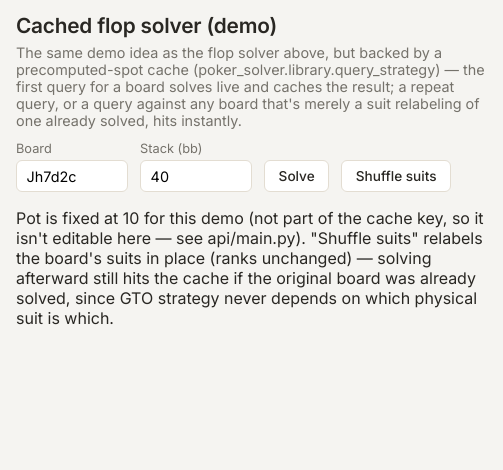
Test: CachedFlopSolver › shows a "Cache hit" indicator when hit is true
This screenshot has width=503, height=470.
Click the button "Solve" at coordinates (297, 176), box [264, 160, 329, 192]
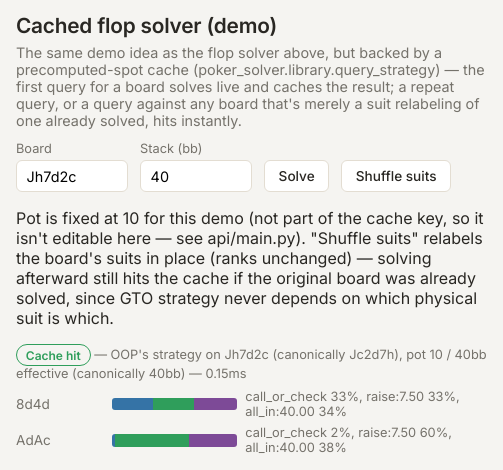
Check: the text "Cache hit" is shown, box [16, 344, 90, 366]
